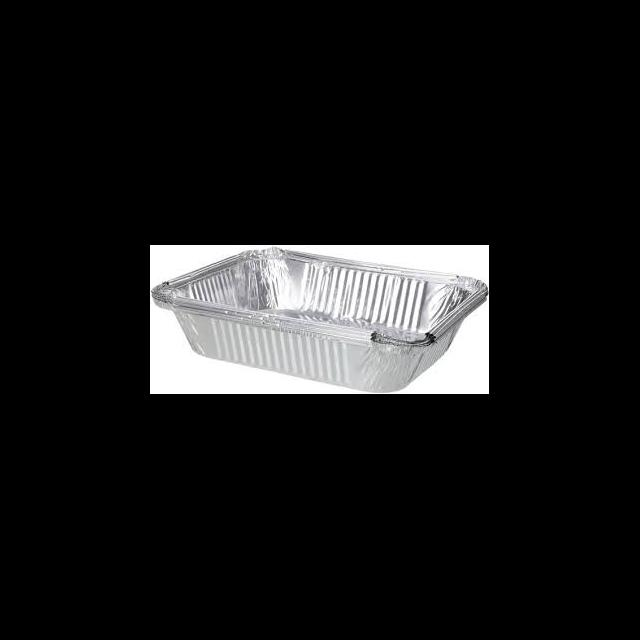metal: (150, 248, 488, 392)
